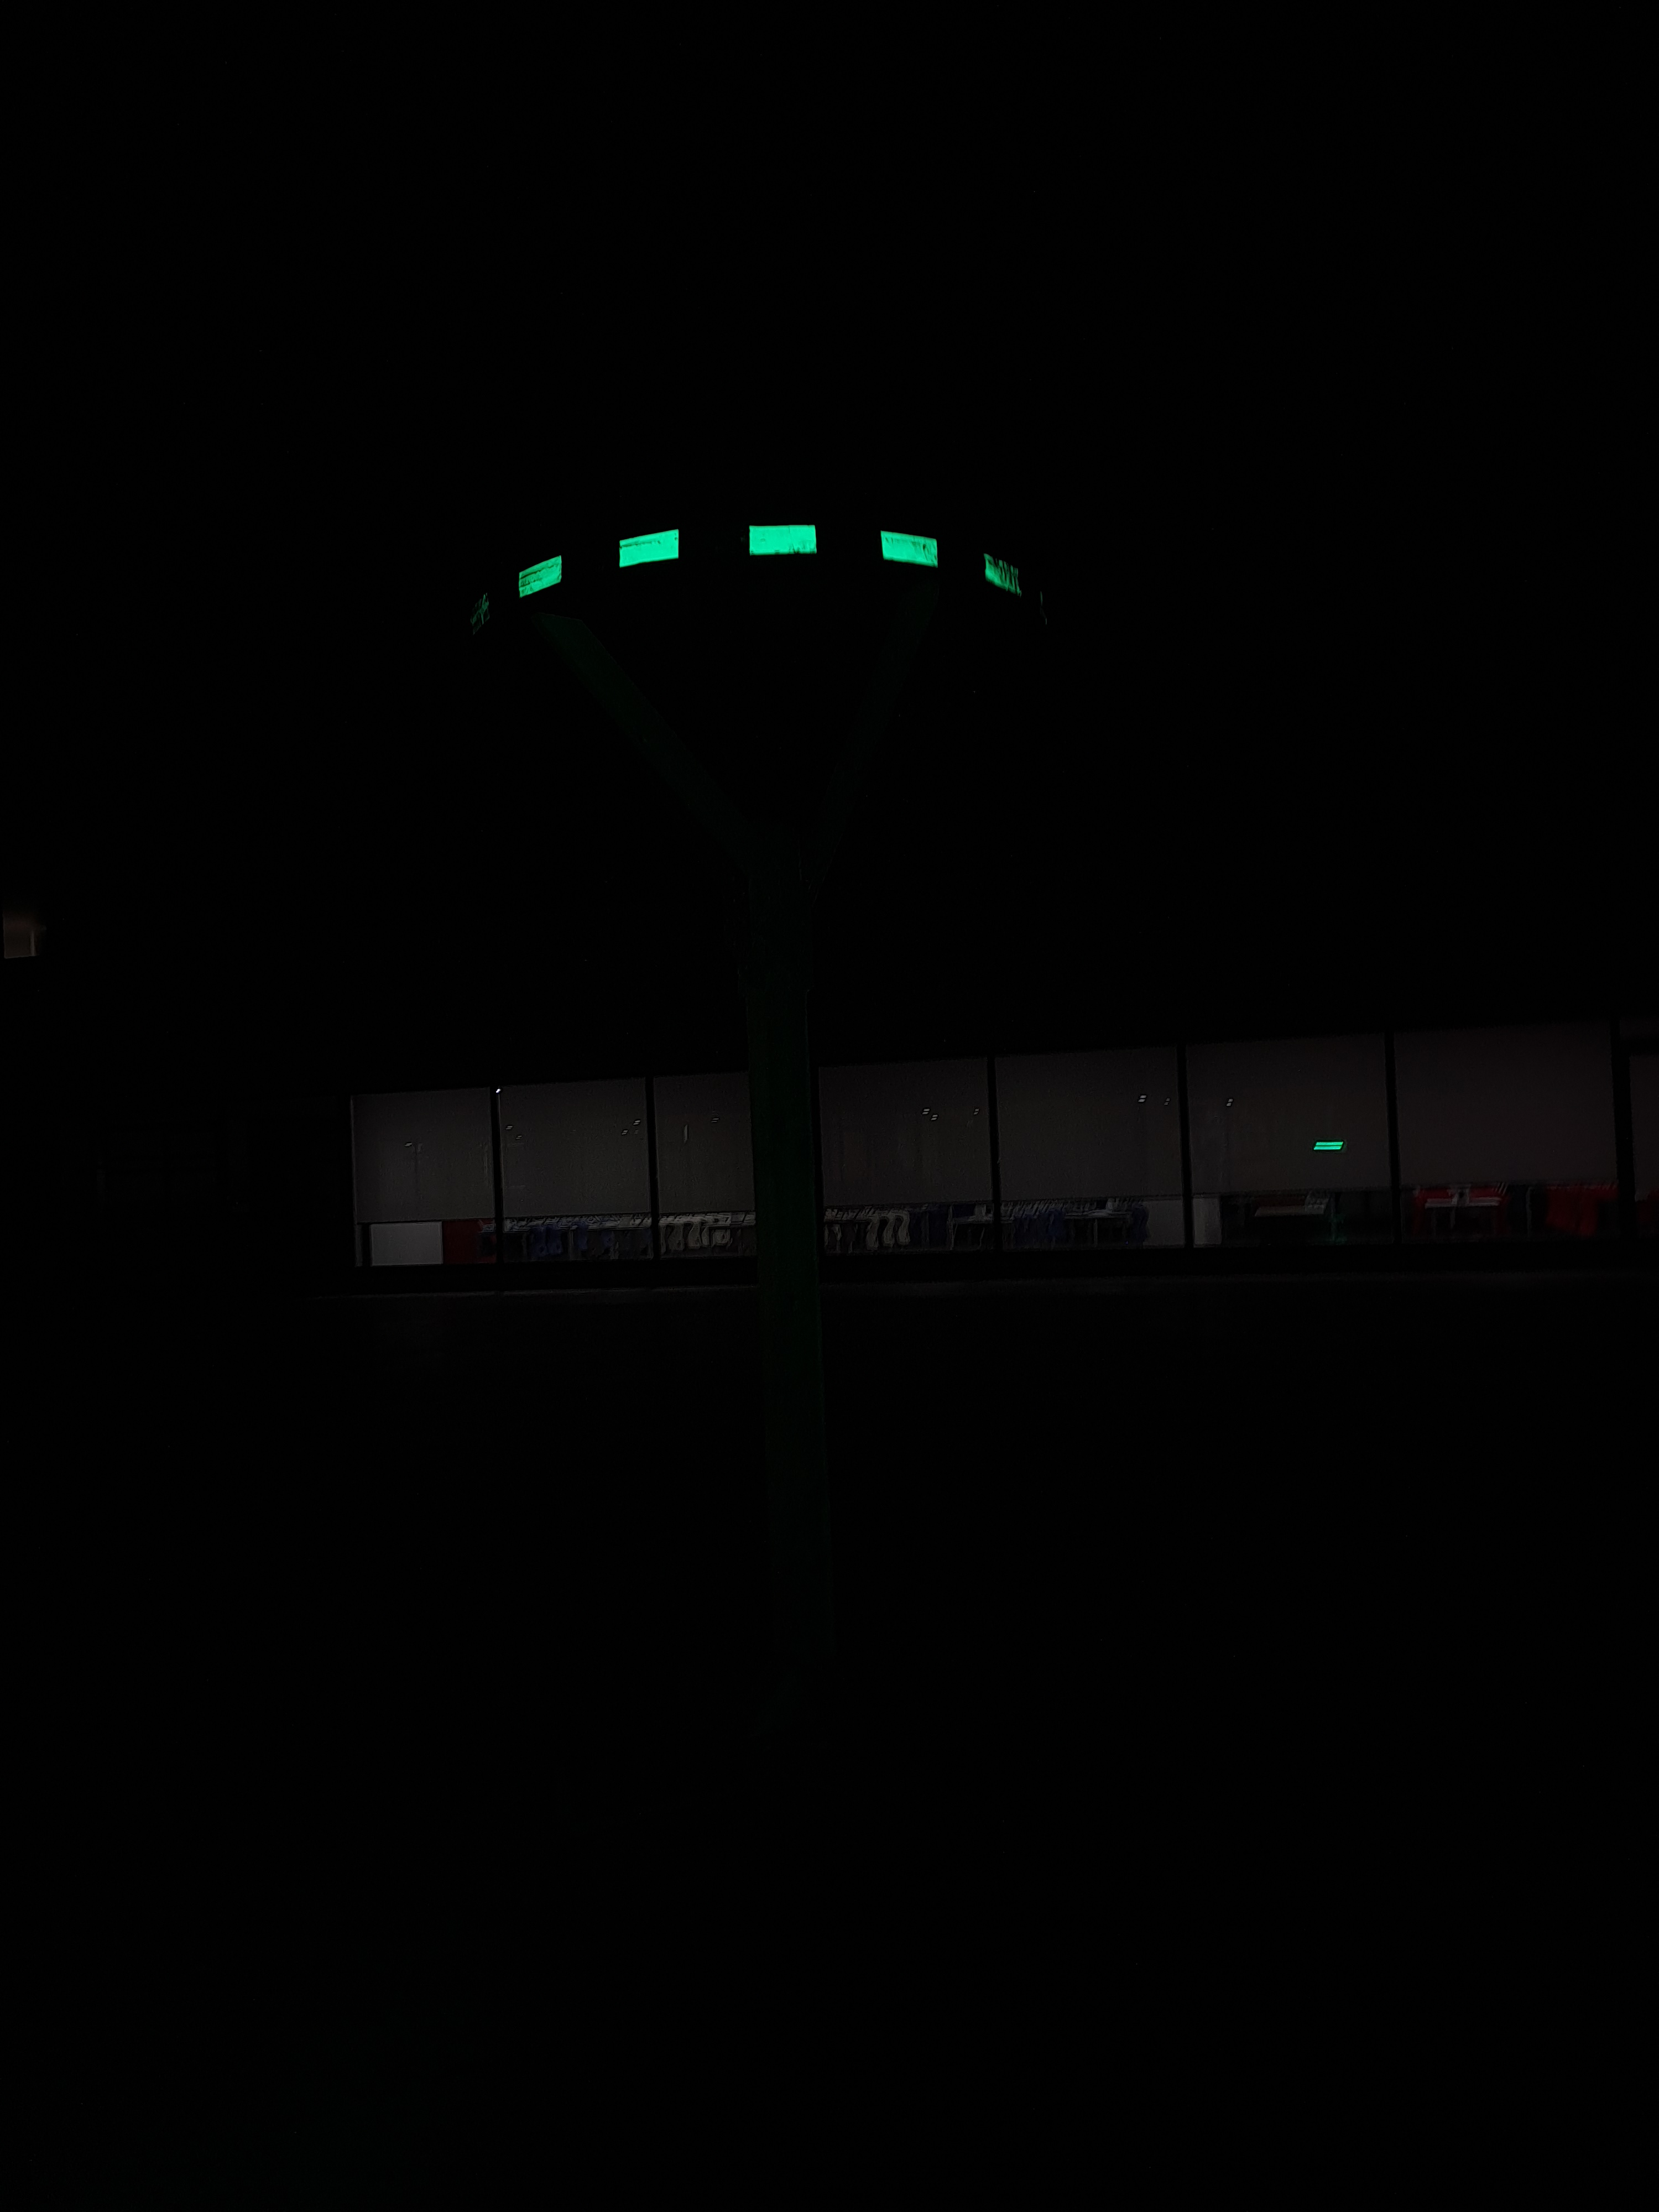hoop: (505, 521, 1030, 603)
